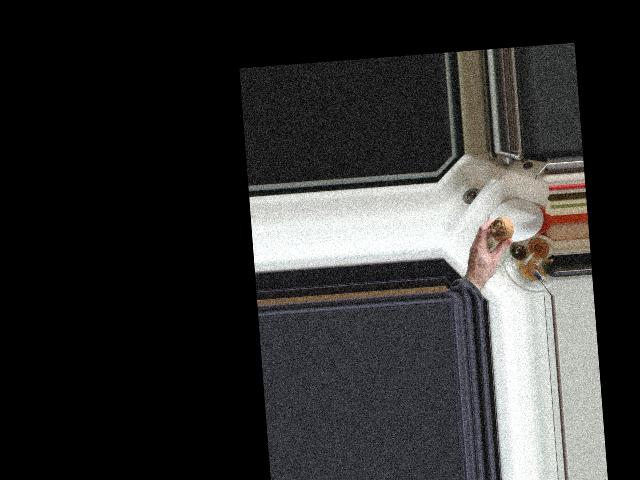sweet_potato: (488, 214, 515, 248)
